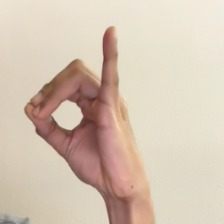D: (17, 19, 166, 214)
